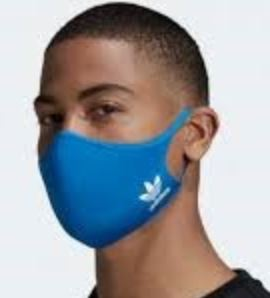with_facemask: (26, 131, 201, 251)
